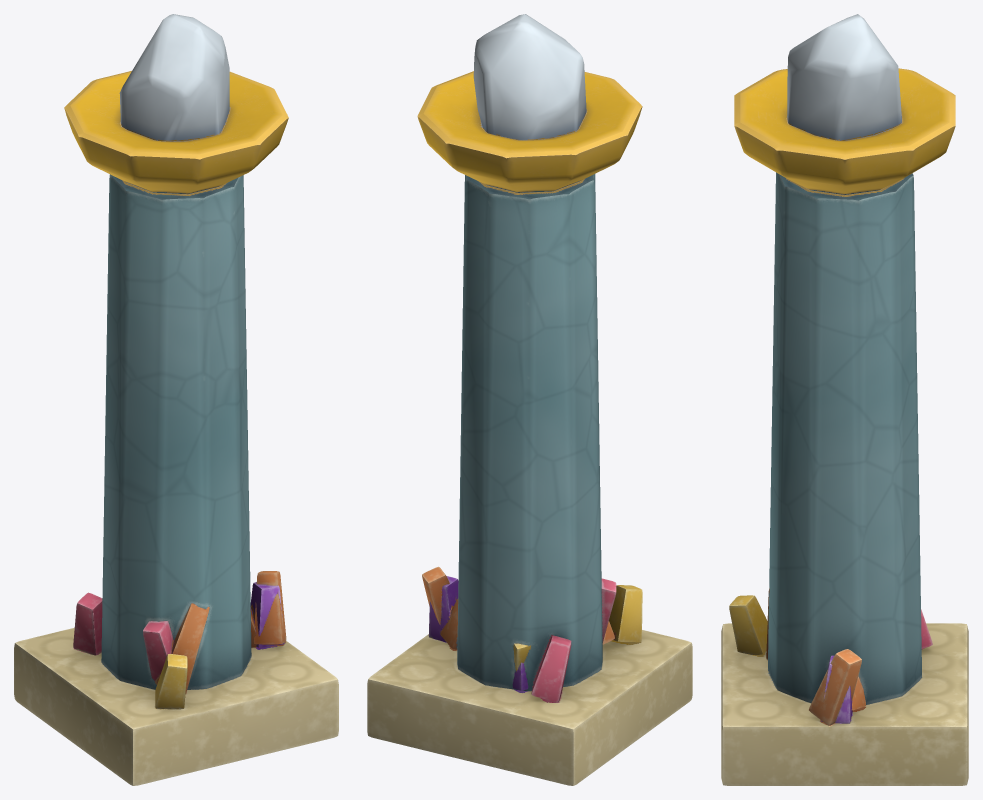
Rendered from Abysses_PilierPerle.fbx.
3 views of the same model, side by side, from view 1: azimuth 30°, elevation 25°; view 2: azimuth 150°, elevation 25°; view 3: azimuth 270°, elevation 25° (orthographic). The views are drawn at different scales.
Parts seen in each view (by area): view 1: Abysses_PilierPerle; view 2: Abysses_PilierPerle; view 3: Abysses_PilierPerle.
Boxes of the visible parts, box(x1,y1,x2,y2) form: Abysses_PilierPerle: box(14, 14, 338, 785); Abysses_PilierPerle: box(367, 14, 692, 785); Abysses_PilierPerle: box(721, 14, 968, 785).
Size of the model in its own units: 444 by 1413 by 440.
Materials: 1 (1 with a texture image).
